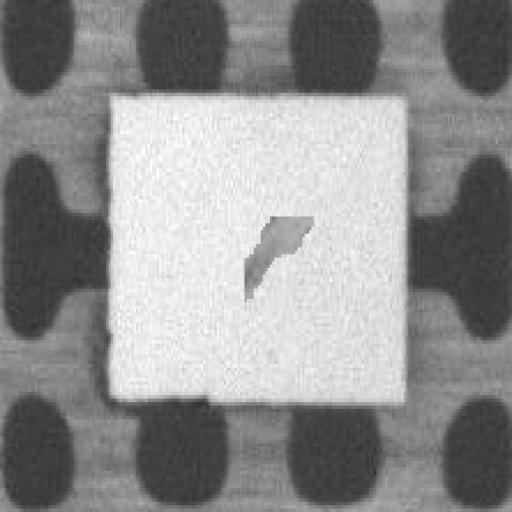DIE_INK: (242, 213, 309, 306)
